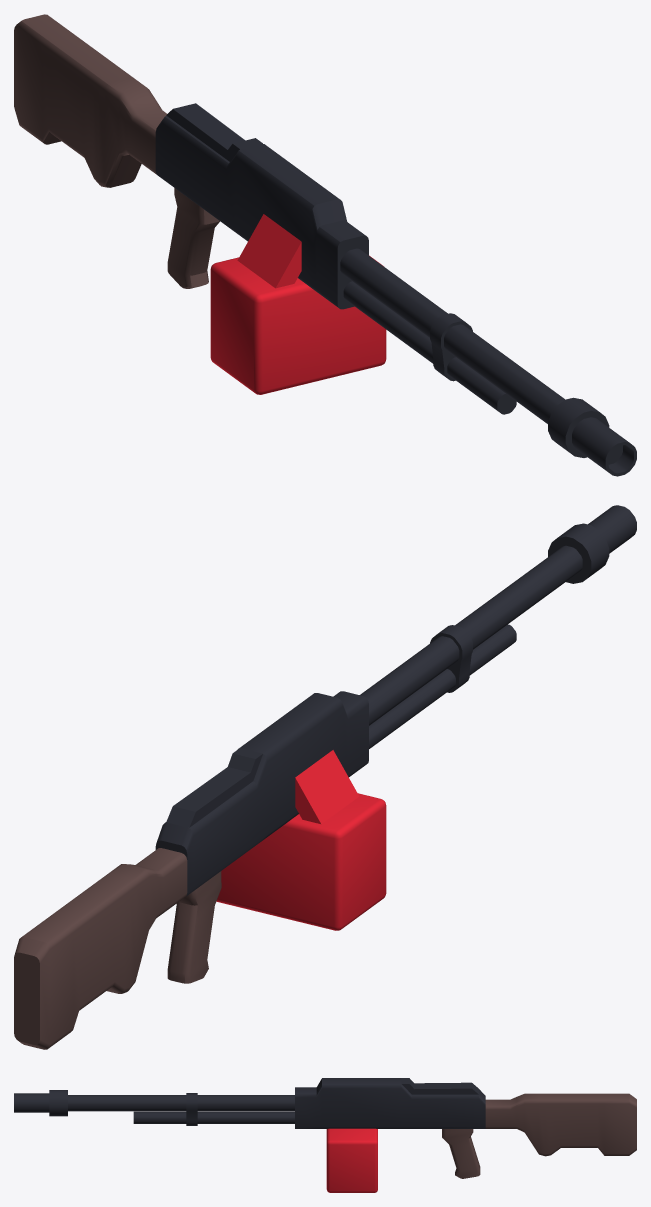
Rendered from RamboGun.fbx.
3 views of the same model, one above another, from view 1: azimuth 30°, elevation 25°; view 2: azimuth 150°, elevation 25°; view 3: azimuth 270°, elevation 25° (orthographic). The views are drawn at different scales.
Visible parts, largest first — view 1: Cube.001; view 2: Cube.001; view 3: Cube.001.
Part boxes in pixels (x1,y1,x2,y2): Cube.001: (14, 14, 636, 476); Cube.001: (14, 505, 636, 1049); Cube.001: (14, 1078, 636, 1192).
Size of the model in its own units: 0.1853 by 0.2472 by 1.45.
